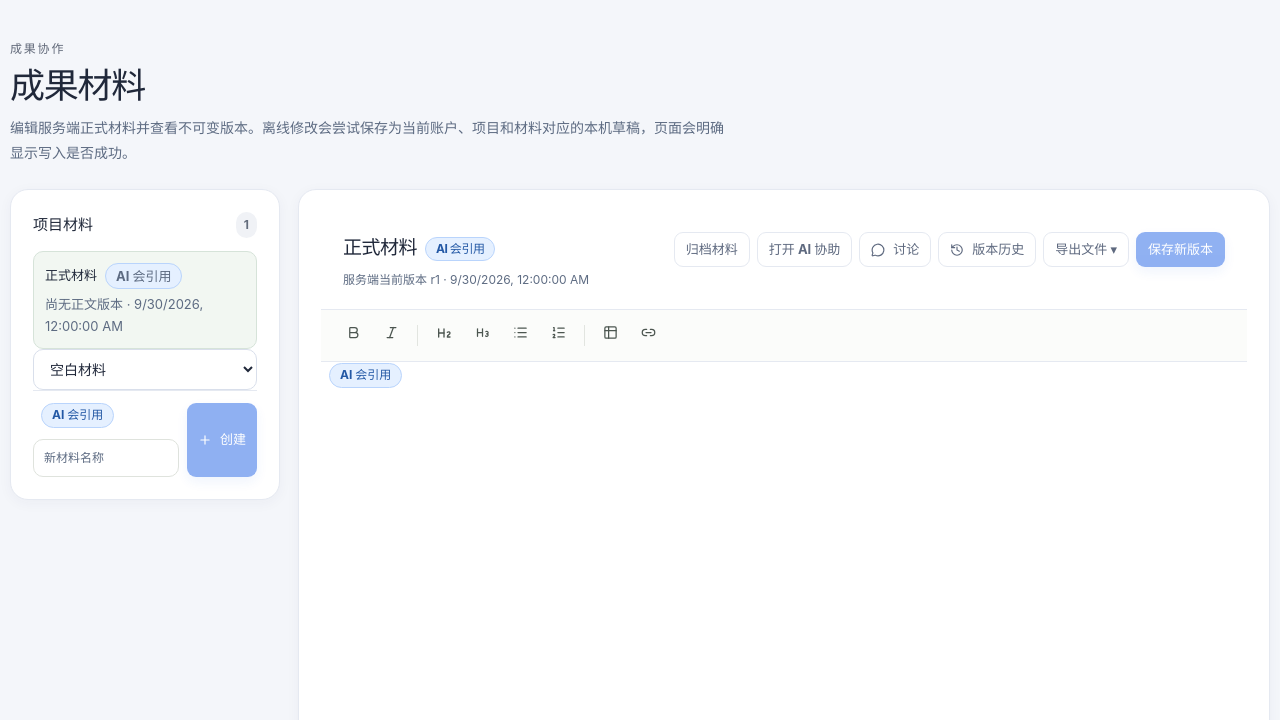
Test: link input is an in-page prompt; cancellation retains the document and default value
The width and height of the screenshot is (1280, 720).
Click the button named "设置链接". click: x=648, y=336
box: [632,320,665,351]
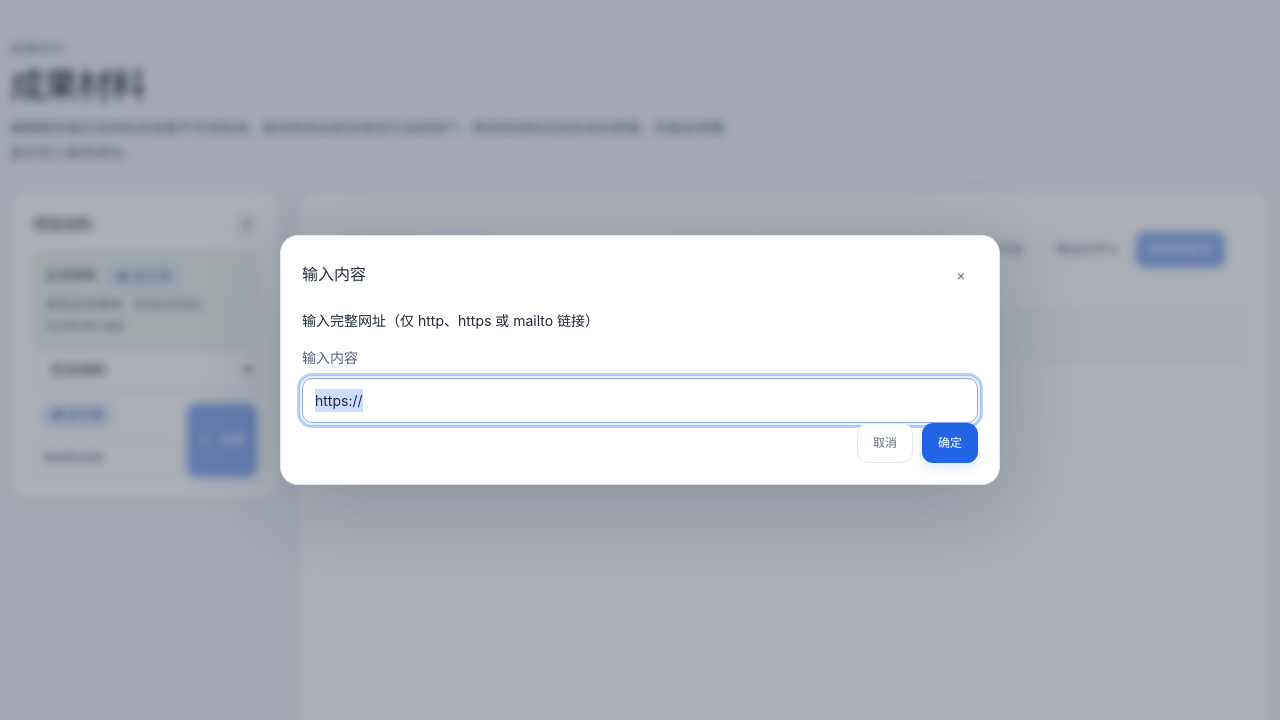
Now the field holds "https://"
Replace the text in the field with "https://example.test". click: x=640, y=400
box: [302,378,978,423]
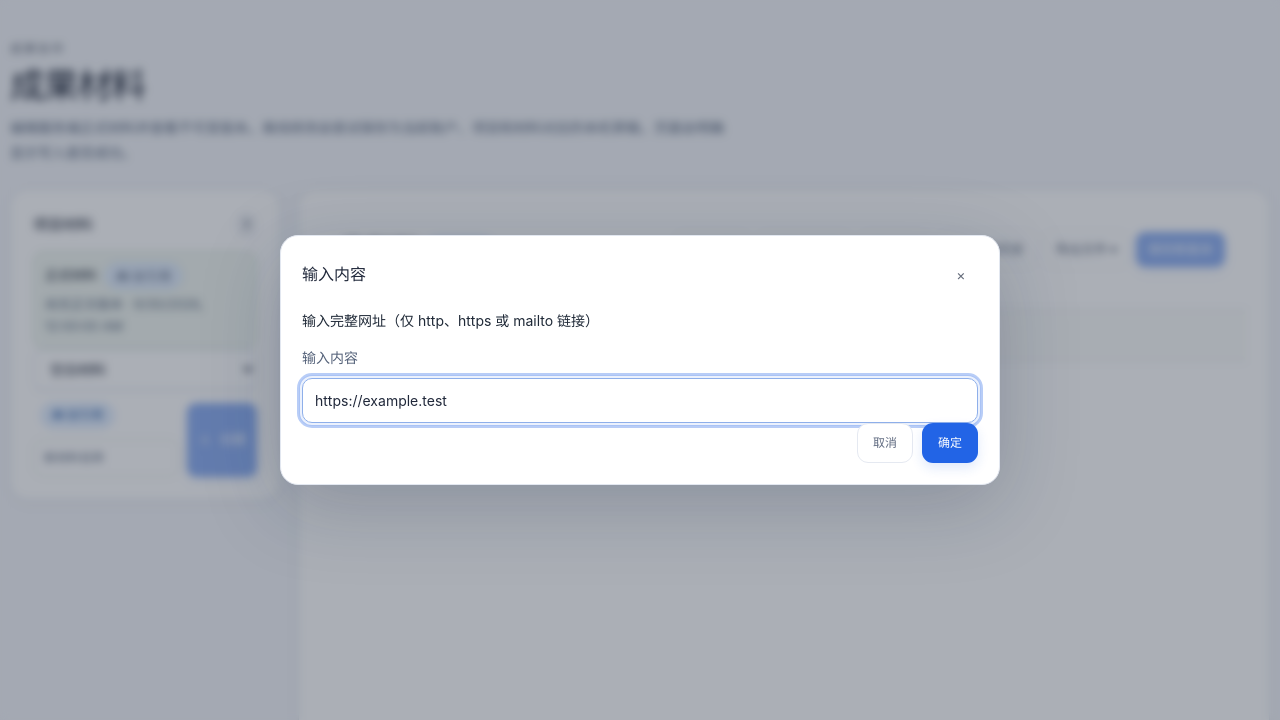
Click the button "取消". click: x=885, y=443
box: [857,423,913,463]
(page scrolled)
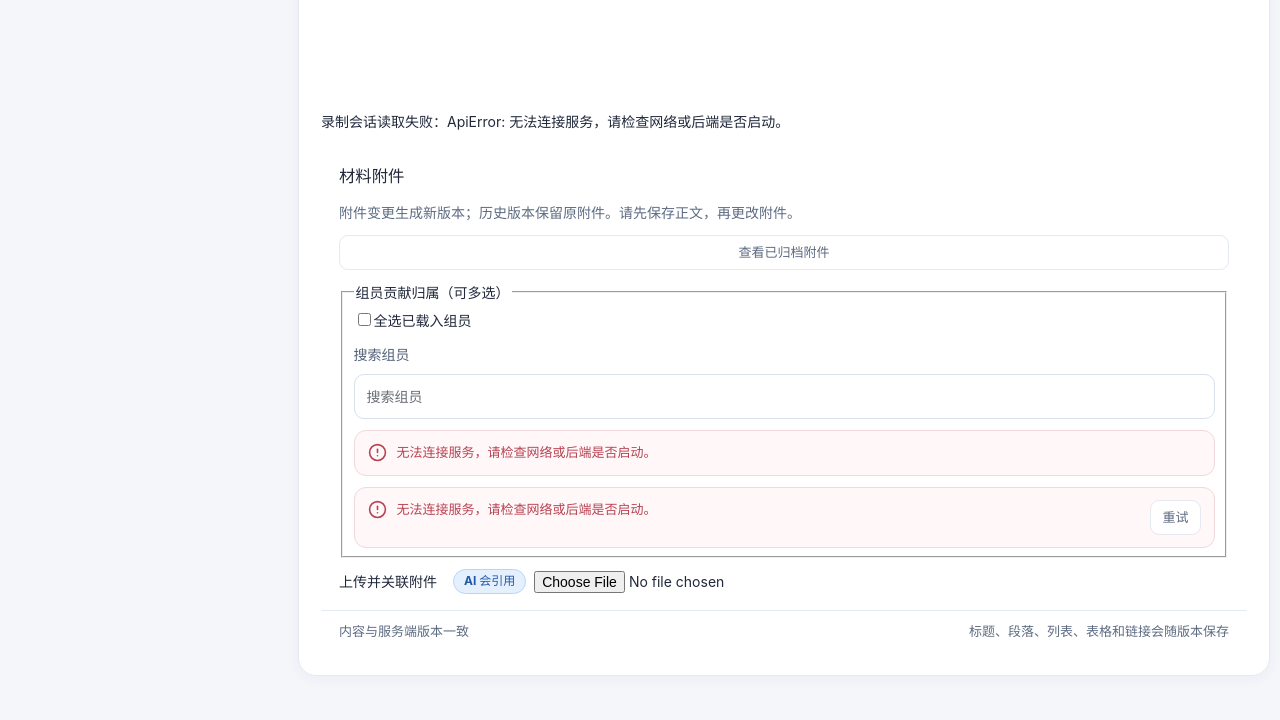
Expected: the text "内容与服务端版本一致" is shown, [339,621,469,642]
Now the dialog is gone
